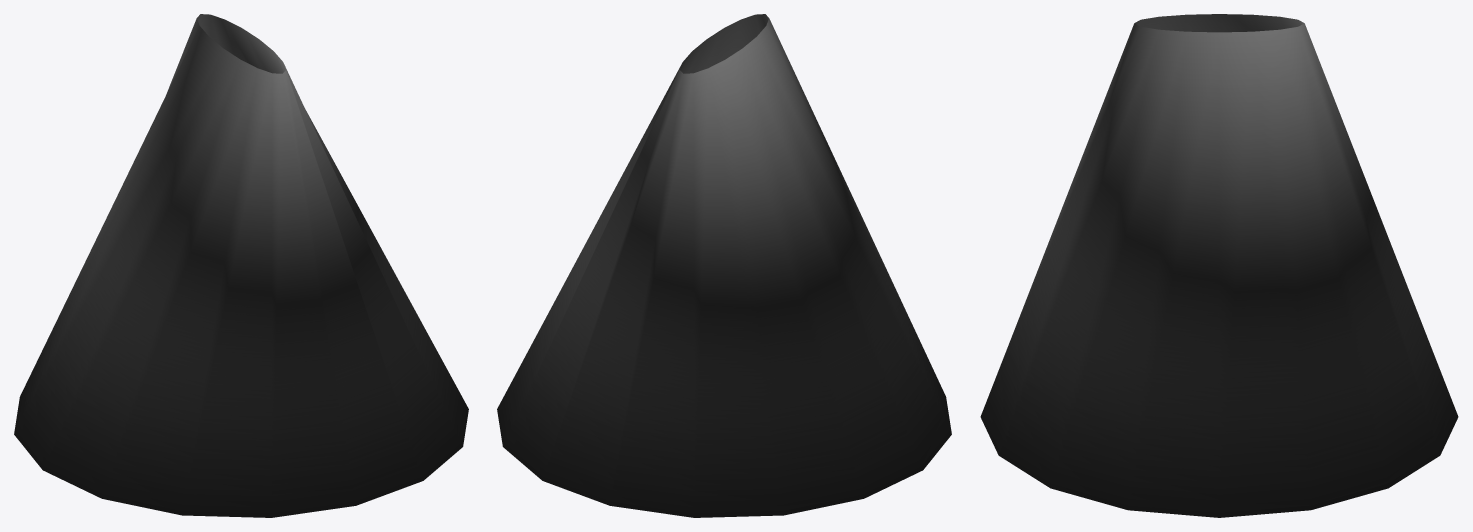
File: VolumetricLighting Oblong_Green.fbx
3 renders of one model, left to right at view 1: azimuth 30°, elevation 25°; view 2: azimuth 150°, elevation 25°; view 3: azimuth 270°, elevation 25°, orthographic. The views are drawn at different scales.
Visible parts, largest first — view 1: pCone1; view 2: pCone1; view 3: pCone1.
Boxes of the visible parts, x1,y1,x2,y2 form: pCone1: (14, 14, 468, 517); pCone1: (497, 14, 951, 517); pCone1: (980, 14, 1458, 517).
Size of the model in its own units: 200 by 182 by 200.
1 material, 1 textured.
